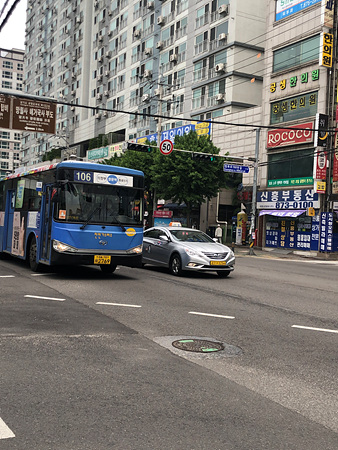bnum: (75, 168, 92, 181)
